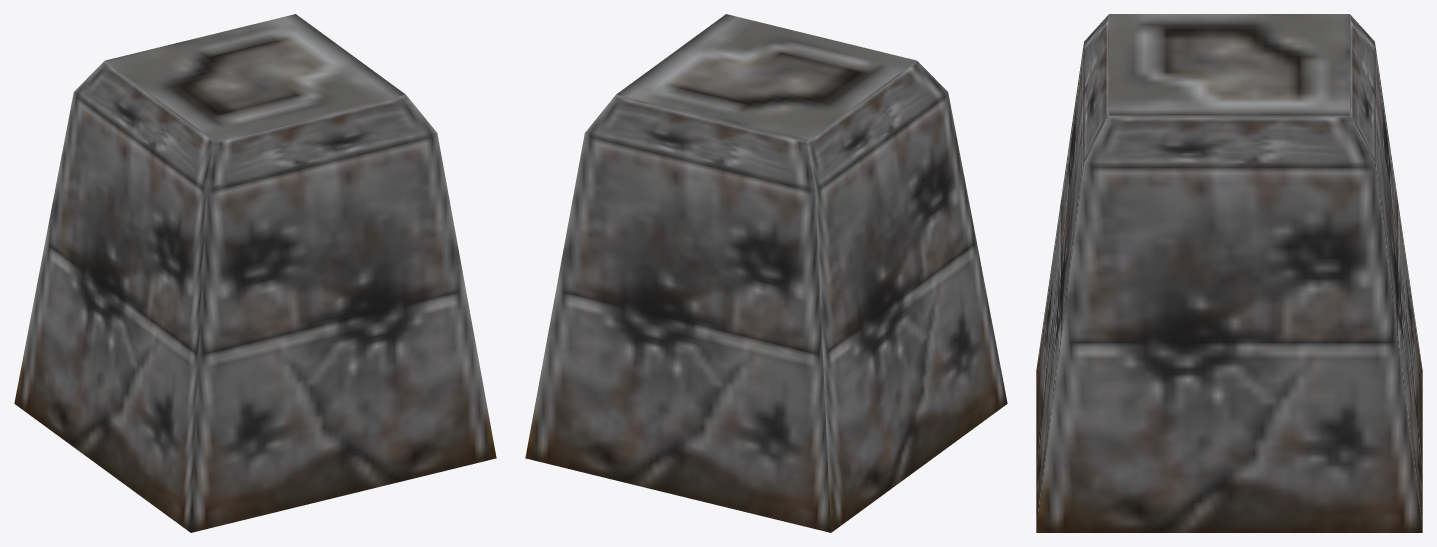
Rendered from s_lightpost_dam.glb.
The picture shows the model from 3 angles, left to right: view 1: azimuth 30°, elevation 25°; view 2: azimuth 150°, elevation 25°; view 3: azimuth 270°, elevation 25°; orthographic projection. The views are drawn at different scales.
Parts seen in each view (by area): view 1: S_LightWallDAM; view 2: S_LightWallDAM; view 3: S_LightWallDAM.
Part boxes in pixels (bbox=[...]): S_LightWallDAM: bbox=[14, 14, 496, 532]; S_LightWallDAM: bbox=[525, 14, 1007, 532]; S_LightWallDAM: bbox=[1036, 14, 1422, 532].
Bounding box in the file's own units: 4.03 × 4.46 × 4.03.
1 material, 1 textured.
